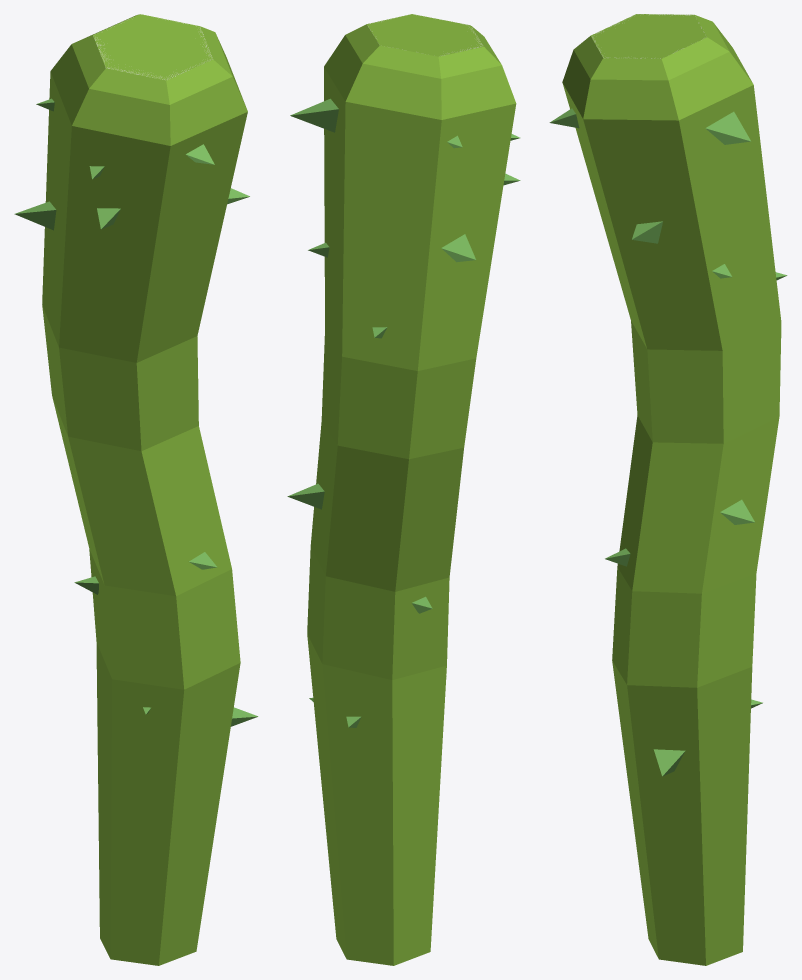
File: model_tree_cactus_single.fbx
The picture shows the model from 3 angles, left to right: view 1: azimuth 30°, elevation 25°; view 2: azimuth 150°, elevation 25°; view 3: azimuth 270°, elevation 25°; orthographic projection. The views are drawn at different scales.
Visible parts, largest first — view 1: model_tree_cactus_single; view 2: model_tree_cactus_single; view 3: model_tree_cactus_single.
Boxes of the visible parts, x1=… form: model_tree_cactus_single: x1=14, y1=14, x2=258, y2=965; model_tree_cactus_single: x1=287, y1=14, x2=520, y2=965; model_tree_cactus_single: x1=549, y1=14, x2=787, y2=965.
Bounding box in the file's own units: 56.19 × 239 × 56.97.
2 materials, 1 textured.
